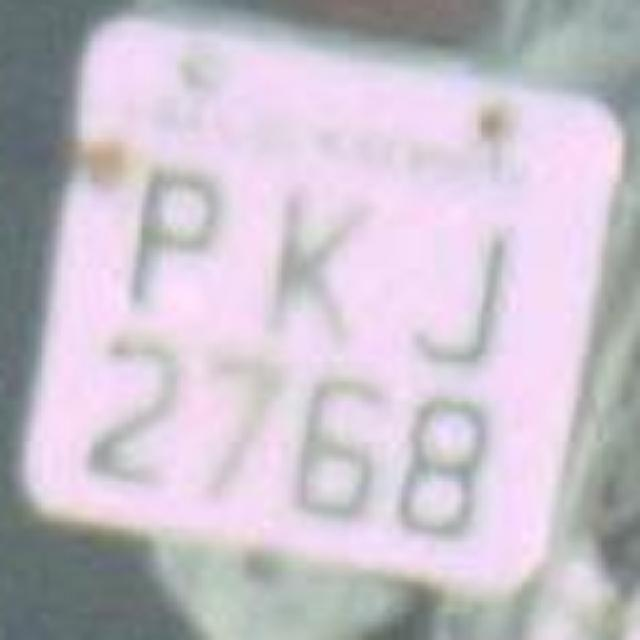2: (56, 316, 209, 512)
6: (268, 340, 408, 555)
7: (164, 336, 308, 524)
8: (376, 360, 512, 560)
J: (384, 196, 528, 376)
P: (120, 140, 232, 335)
